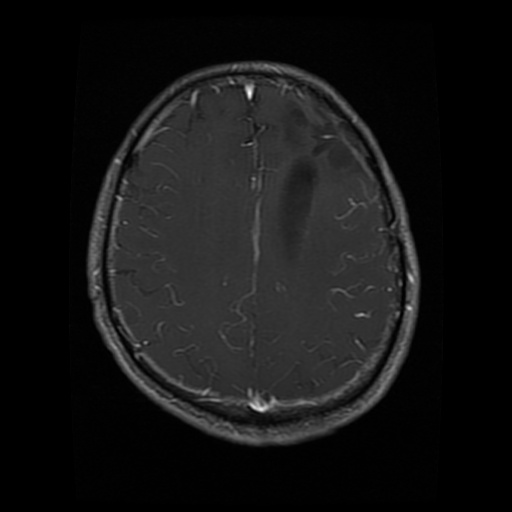glioma: (278, 94, 368, 260)
